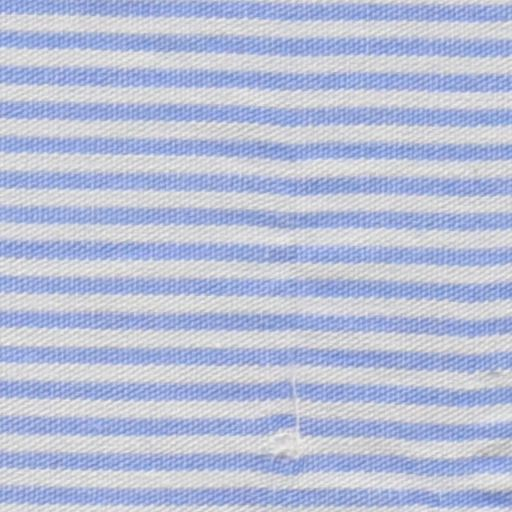defect: (258, 420, 312, 468), (424, 496, 472, 512)
